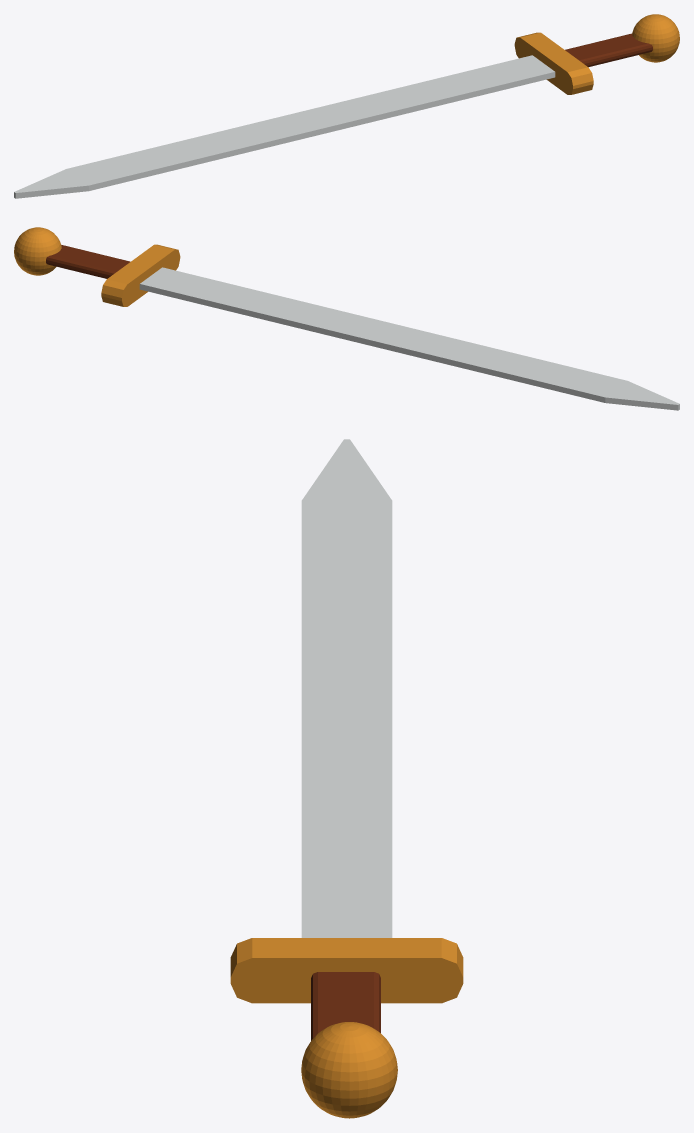
The model's file is Sword.fbx.
3 renders of one model, top to bottom at view 1: azimuth 30°, elevation 25°; view 2: azimuth 150°, elevation 25°; view 3: azimuth 270°, elevation 25°, orthographic. The views are drawn at different scales.
Visible parts, largest first — view 1: Plane; view 2: Plane; view 3: Plane.
Boxes of the visible parts, x1,y1,x2,y2 form: Plane: (14, 14, 679, 198); Plane: (14, 227, 679, 410); Plane: (230, 439, 463, 1118).
Bounding box in the file's own units: 1.42 × 0.2156 × 0.0897.
